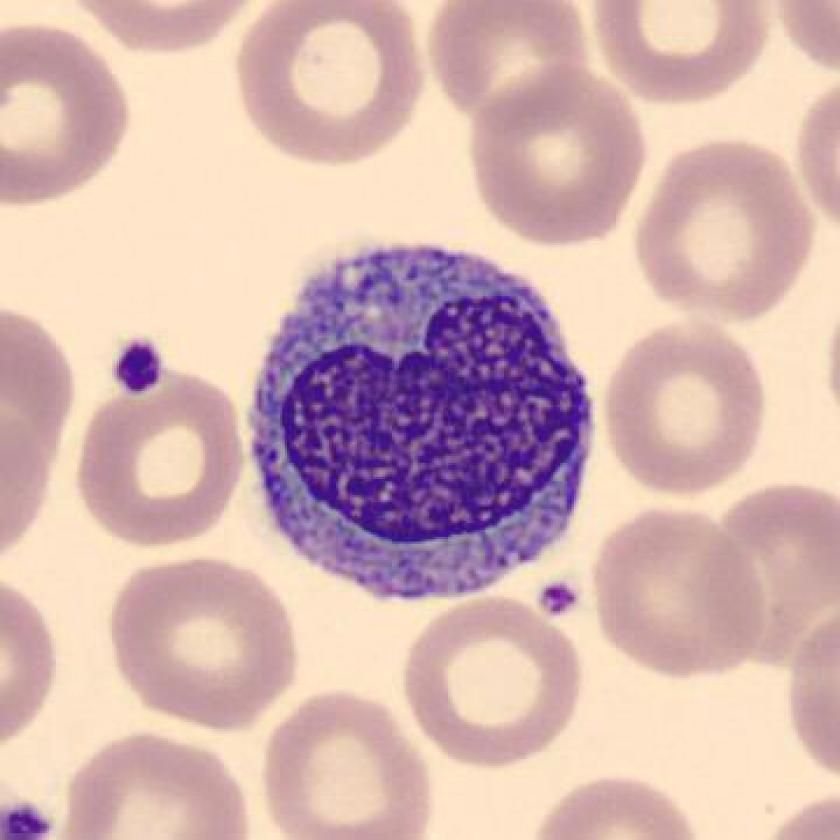monocyte: (225, 219, 615, 628)
